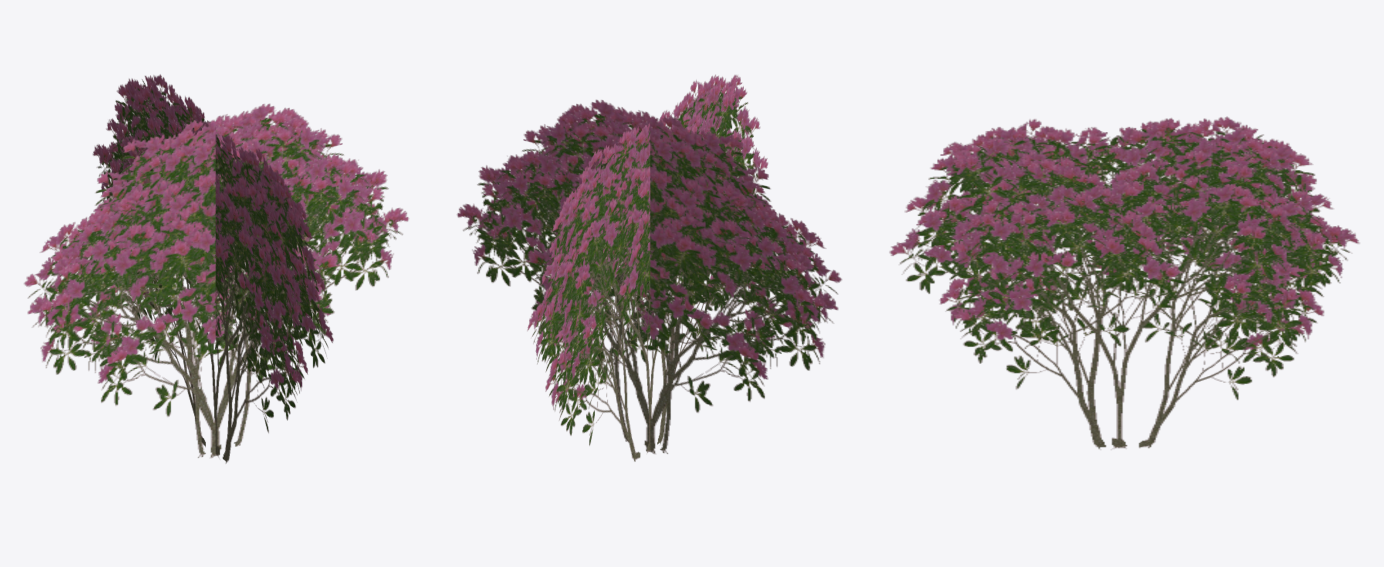
File: RhododendronTsutsuji.glb
The picture shows the model from 3 angles, left to right: view 1: azimuth 30°, elevation 25°; view 2: azimuth 150°, elevation 25°; view 3: azimuth 270°, elevation 25°; orthographic projection. The views are drawn at different scales.
Visible parts, largest first — view 1: mesh__mat_billboard_10; view 2: mesh__mat_billboard_10; view 3: mesh__mat_billboard_10.
Part boxes in pixels (left/top/right/bottom): mesh__mat_billboard_10: left=24, top=74, right=408, bottom=463; mesh__mat_billboard_10: left=457, top=74, right=841, bottom=461; mesh__mat_billboard_10: left=889, top=116, right=1359, bottom=449.
Size of the model in its own units: 1.09 by 0.9119 by 1.17.
1 material, 1 textured.
